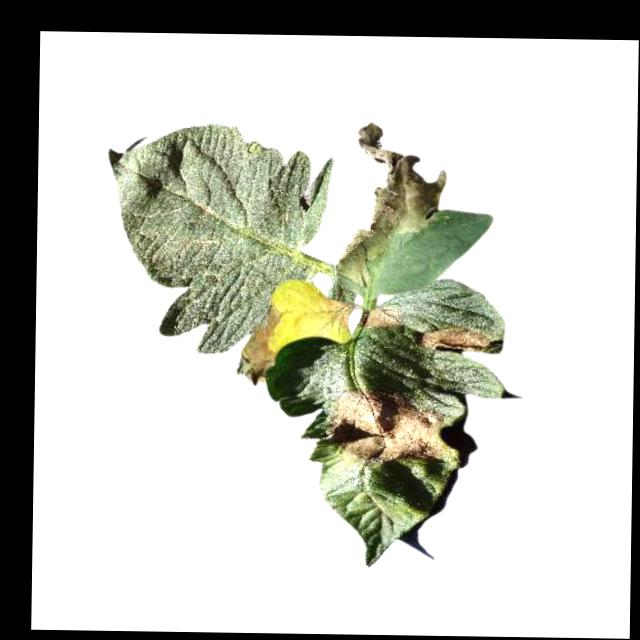Late_blight: (337, 122, 445, 287), (321, 386, 454, 470), (237, 301, 283, 384), (417, 324, 490, 357), (320, 295, 355, 331), (360, 308, 404, 331)
